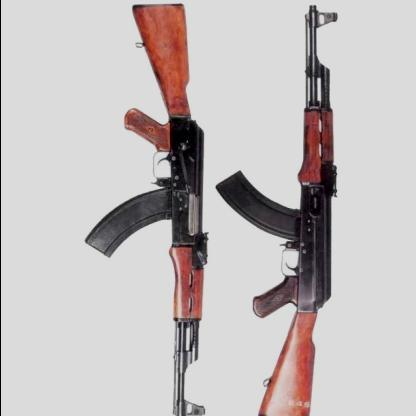rifle: (68, 0, 216, 416), (227, 2, 355, 416)
